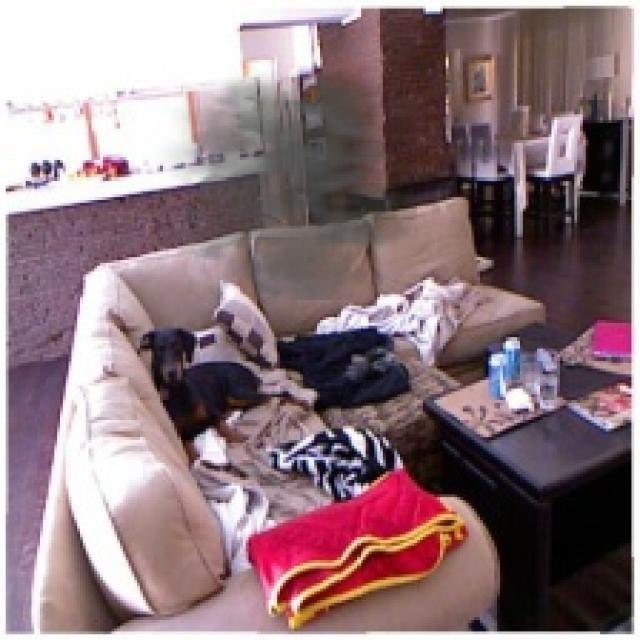Smoke: (148, 60, 418, 300)
